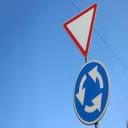preferencia: (62, 2, 100, 60)
